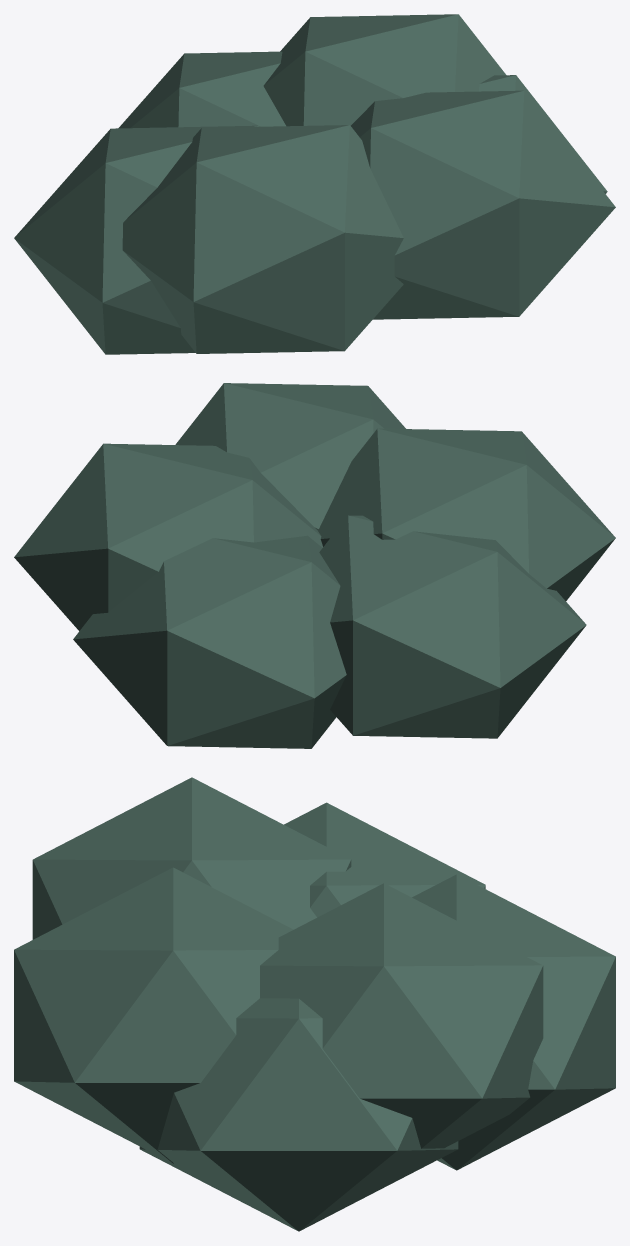
Rendered from juniper.glb.
The picture shows the model from 3 angles, top to bottom: view 1: azimuth 30°, elevation 25°; view 2: azimuth 150°, elevation 25°; view 3: azimuth 270°, elevation 25°; orthographic projection. The views are drawn at different scales.
Parts seen in each view (by area): view 1: Можжевельник; view 2: Можжевельник; view 3: Можжевельник.
Boxes of the visible parts, left/top/right/bottom form: Можжевельник: left=14, top=14, right=615, bottom=354; Можжевельник: left=14, top=383, right=615, bottom=748; Можжевельник: left=14, top=777, right=615, bottom=1231.
Bounding box in the file's own units: 2.2 × 0.9766 × 2.09.
